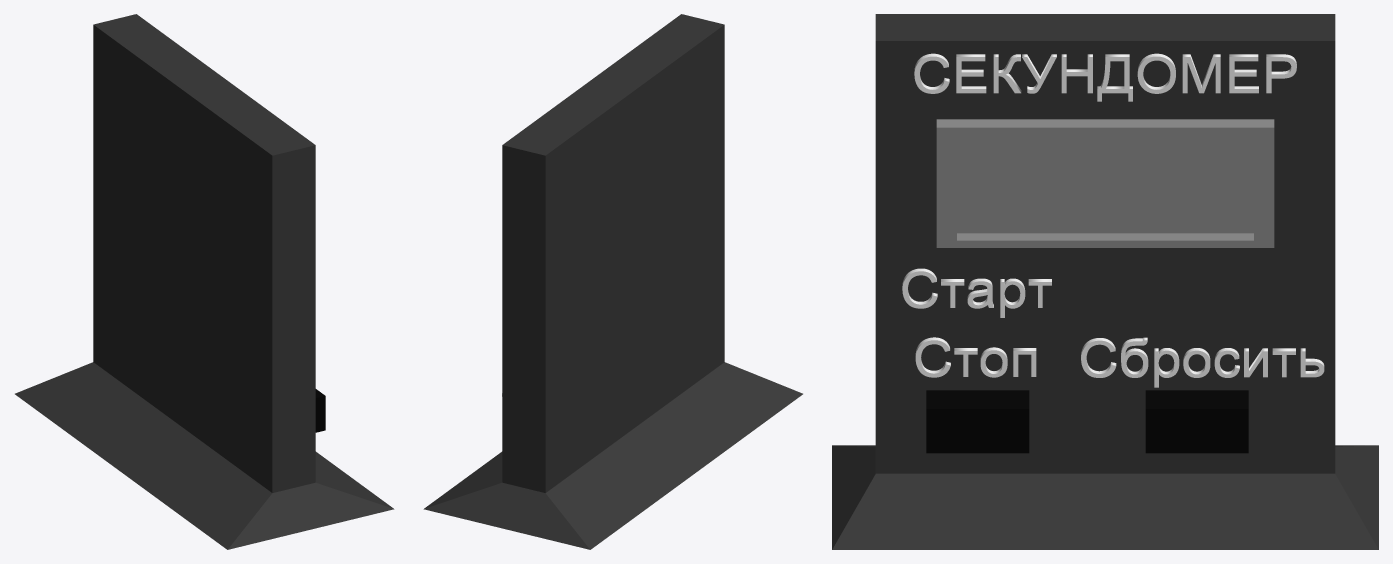
Rendered from Timer.fbx.
3 views of the same model, side by side, from view 1: azimuth 30°, elevation 25°; view 2: azimuth 150°, elevation 25°; view 3: azimuth 270°, elevation 25° (orthographic). The views are drawn at different scales.
Visible parts, largest first — view 1: Cube; view 2: Cube; view 3: Cube, Cube.001, Text.002, Cube.002, Cube.003, Text, Text.001.
Part boxes in pixels (x1=…): Cube: x1=15, y1=14, x2=394, y2=549; Cube: x1=423, y1=14, x2=802, y2=549; Cube: x1=832, y1=14, x2=1378, y2=549; Cube.001: x1=936, y1=119, x2=1274, y2=247; Text.002: x1=914, y1=53, x2=1296, y2=101; Cube.002: x1=926, y1=390, x2=1029, y2=453; Cube.003: x1=1145, y1=390, x2=1248, y2=453; Text: x1=902, y1=268, x2=1051, y2=377; Text.001: x1=1081, y1=337, x2=1324, y2=387.
Size of the model in its own units: 18.64 by 39.07 by 41.17.
